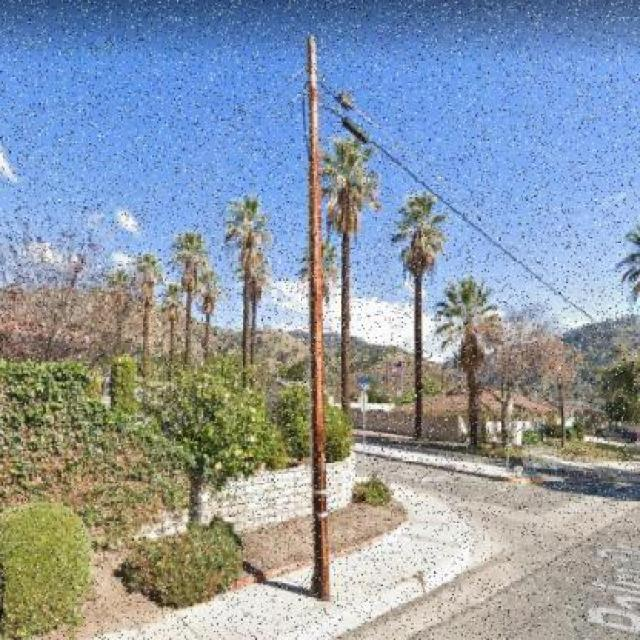pole: (263, 16, 374, 621)
